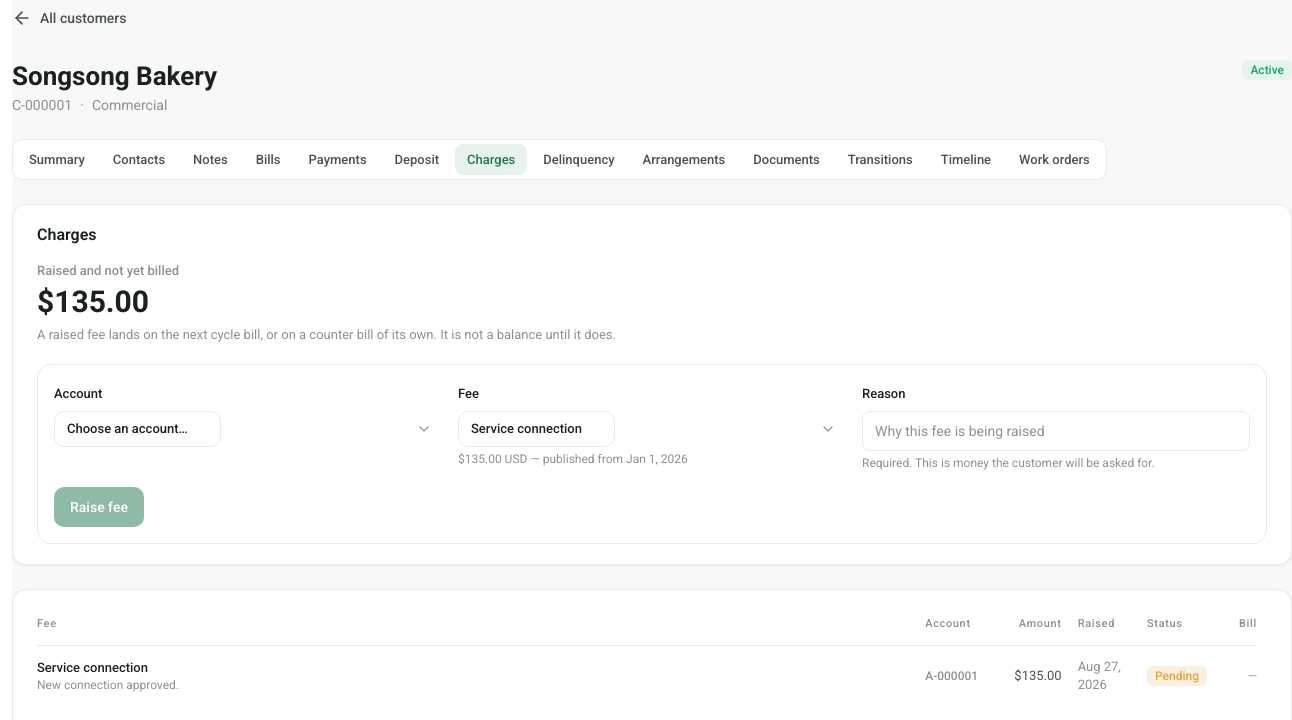
the charges tab › prices the chosen fee off the published schedule and offers no amount field
Expected: the heading "Charges" is shown, [37, 225, 96, 245]
Expected: the text "$135.00 USD — published from Jan 1, 2026" is shown, [458, 452, 688, 466]
Select "Reconnection" in the dropdown labelled "Fee" at (536, 429), box [458, 411, 615, 447]
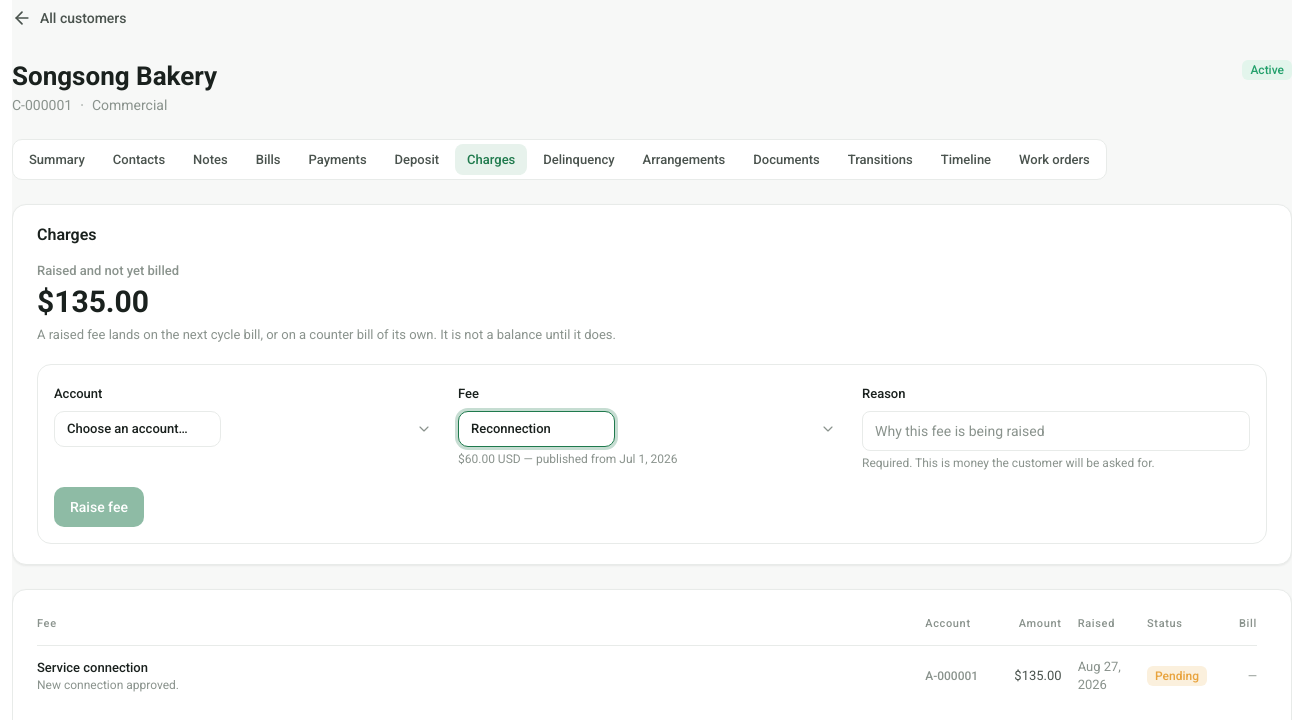
Result: the text "$60.00 USD — published from Jul 1, 2026" is shown at [458, 452, 678, 466]
